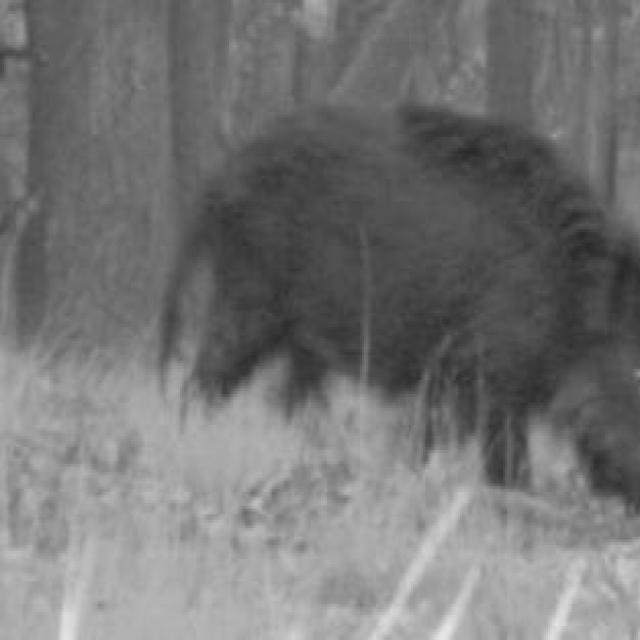pig: (117, 42, 640, 582)
